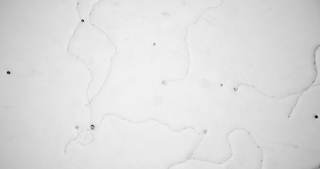germinated: (231, 83, 242, 92), (160, 78, 170, 86), (198, 128, 208, 135), (73, 124, 80, 133)
nongerminated: (88, 123, 96, 131), (150, 40, 157, 47), (312, 113, 319, 120), (79, 17, 86, 24), (4, 68, 11, 75), (219, 80, 225, 87)
